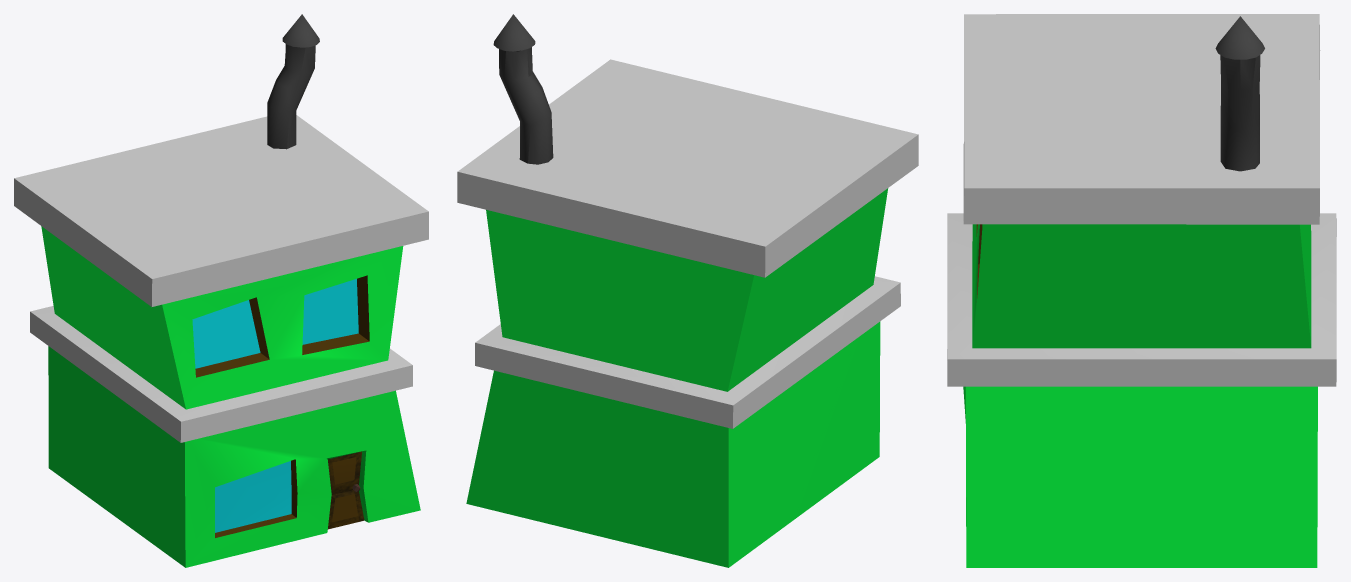
The model's file is PredioPequeno-VerdeClaroLOD1.fbx.
3 views of the same model, side by side, from view 1: azimuth 30°, elevation 25°; view 2: azimuth 150°, elevation 25°; view 3: azimuth 270°, elevation 25° (orthographic). The views are drawn at different scales.
Parts seen in each view (by area): view 1: Predio2AndaresLOD1; view 2: Predio2AndaresLOD1; view 3: Predio2AndaresLOD1.
Part boxes in pixels (<box>): Predio2AndaresLOD1: <box>14,14,428,567</box>; Predio2AndaresLOD1: <box>457,14,918,567</box>; Predio2AndaresLOD1: <box>947,14,1336,567</box>.
Bounding box in the file's own units: 712 × 1035 × 672.
